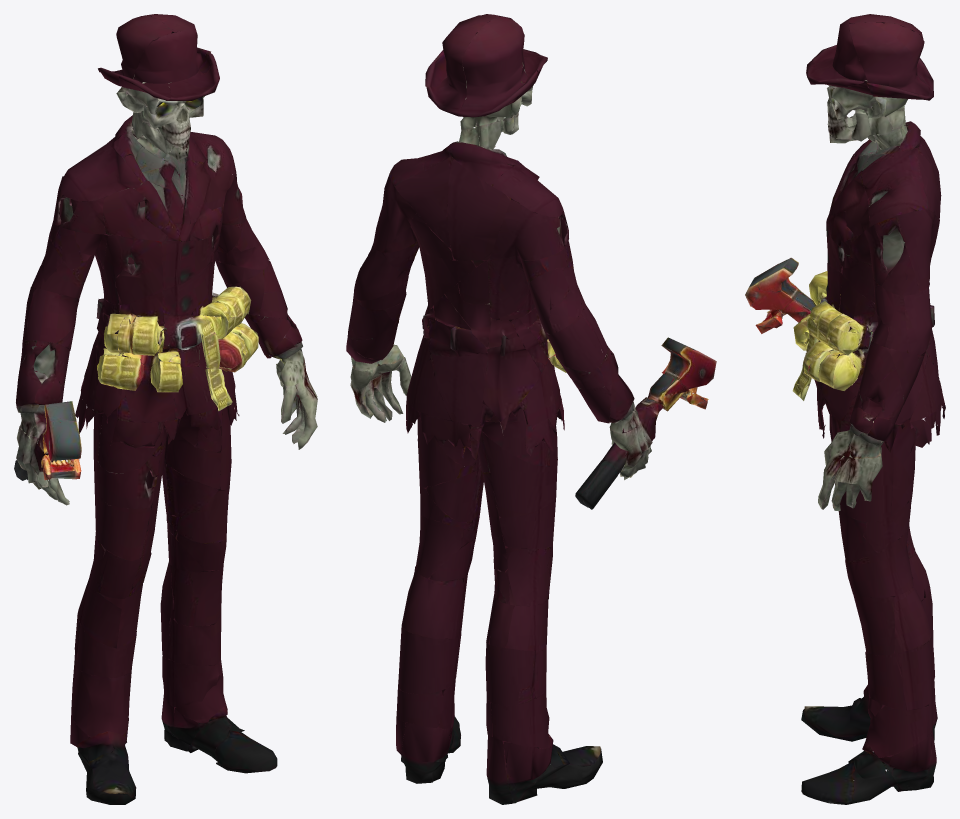
The model's file is 12_undead_ticket_taker.glb.
The picture shows the model from 3 angles, left to right: view 1: azimuth 30°, elevation 25°; view 2: azimuth 150°, elevation 25°; view 3: azimuth 270°, elevation 25°; orthographic projection.
Parts seen in each view (by area): view 1: mesh_node; view 2: mesh_node; view 3: mesh_node.
Part boxes in pixels (x1,y1,x2,y2): mesh_node: (14, 14, 317, 804); mesh_node: (346, 14, 716, 804); mesh_node: (745, 14, 945, 804).
Bounding box in the file's own units: 0.8271 × 1.9 × 0.4682.
Materials: 1 (1 with a texture image).
